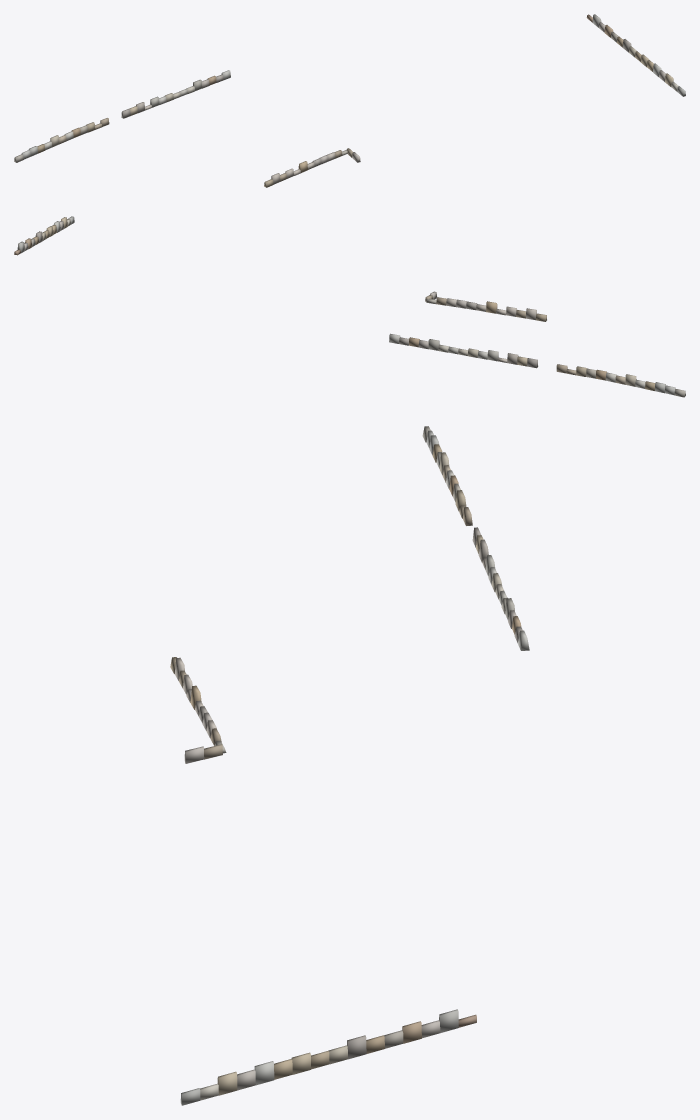
The model's file is farm_-4_12_collision.glb.
3 views of the same model, one above another, from view 1: azimuth 30°, elevation 25°; view 2: azimuth 150°, elevation 25°; view 3: azimuth 270°, elevation 25° (orthographic). The views are drawn at different scales.
Visible parts, largest first — view 1: geometry_0; view 2: geometry_0; view 3: geometry_0.
Boxes of the visible parts, x1,y1,x2,y2 form: geometry_0: (14, 14, 685, 187); geometry_0: (14, 216, 685, 397); geometry_0: (170, 426, 529, 1105).
Bounding box in the file's own units: 118 × 9.98 × 30.21.
